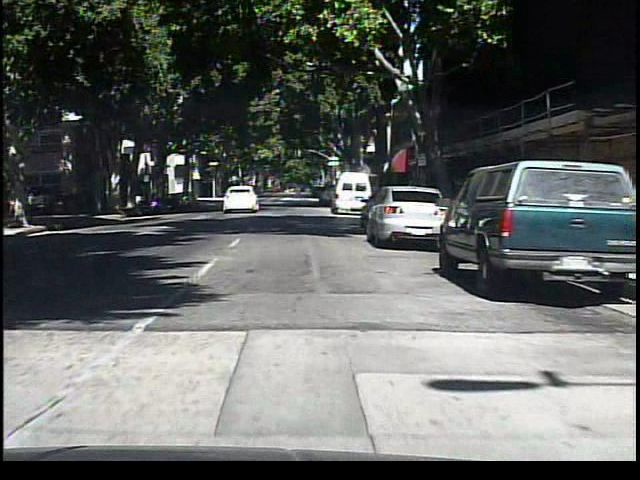person: (291, 176, 308, 206)
